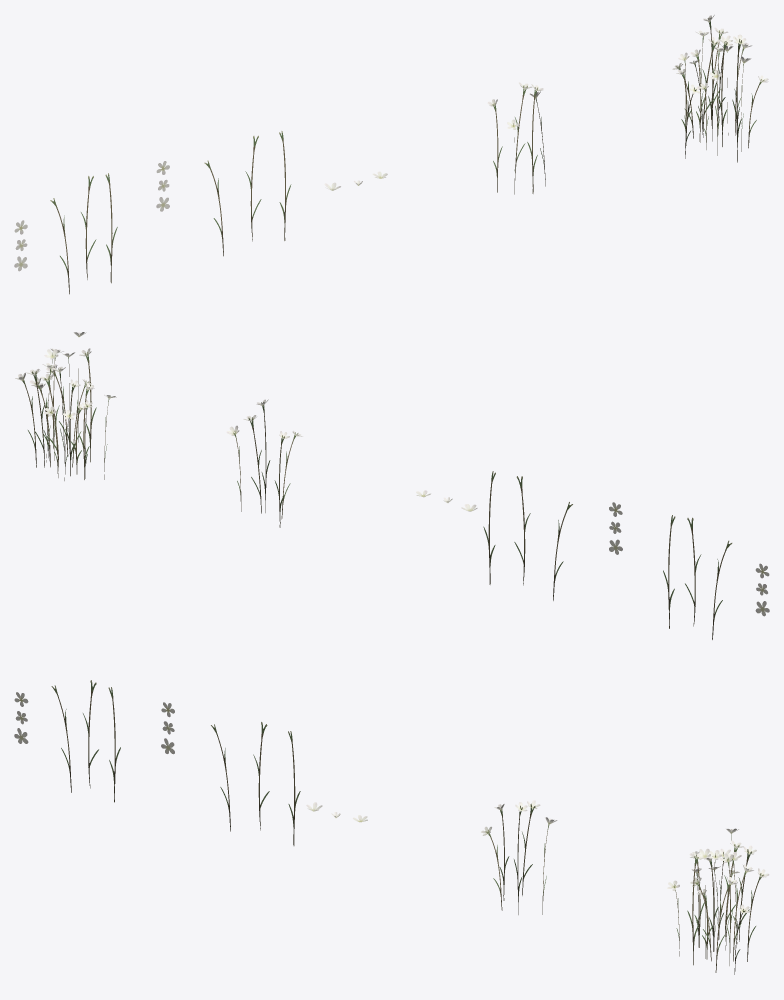
The model's file is shrub_01.glb.
3 renders of one model, top to bottom at view 1: azimuth 30°, elevation 25°; view 2: azimuth 150°, elevation 25°; view 3: azimuth 330°, elevation 25°, orthographic. The views are drawn at different scales.
Visible parts, largest first — view 1: shrub_01; view 2: shrub_01; view 3: shrub_01.
Part boxes in pixels (left/top/right/bottom): shrub_01: left=14, top=15, right=768, bottom=294; shrub_01: left=15, top=332, right=769, bottom=639; shrub_01: left=14, top=680, right=769, bottom=974.
Size of the model in its own units: 14.6 by 2.5 by 1.53.
1 material, 1 textured.
